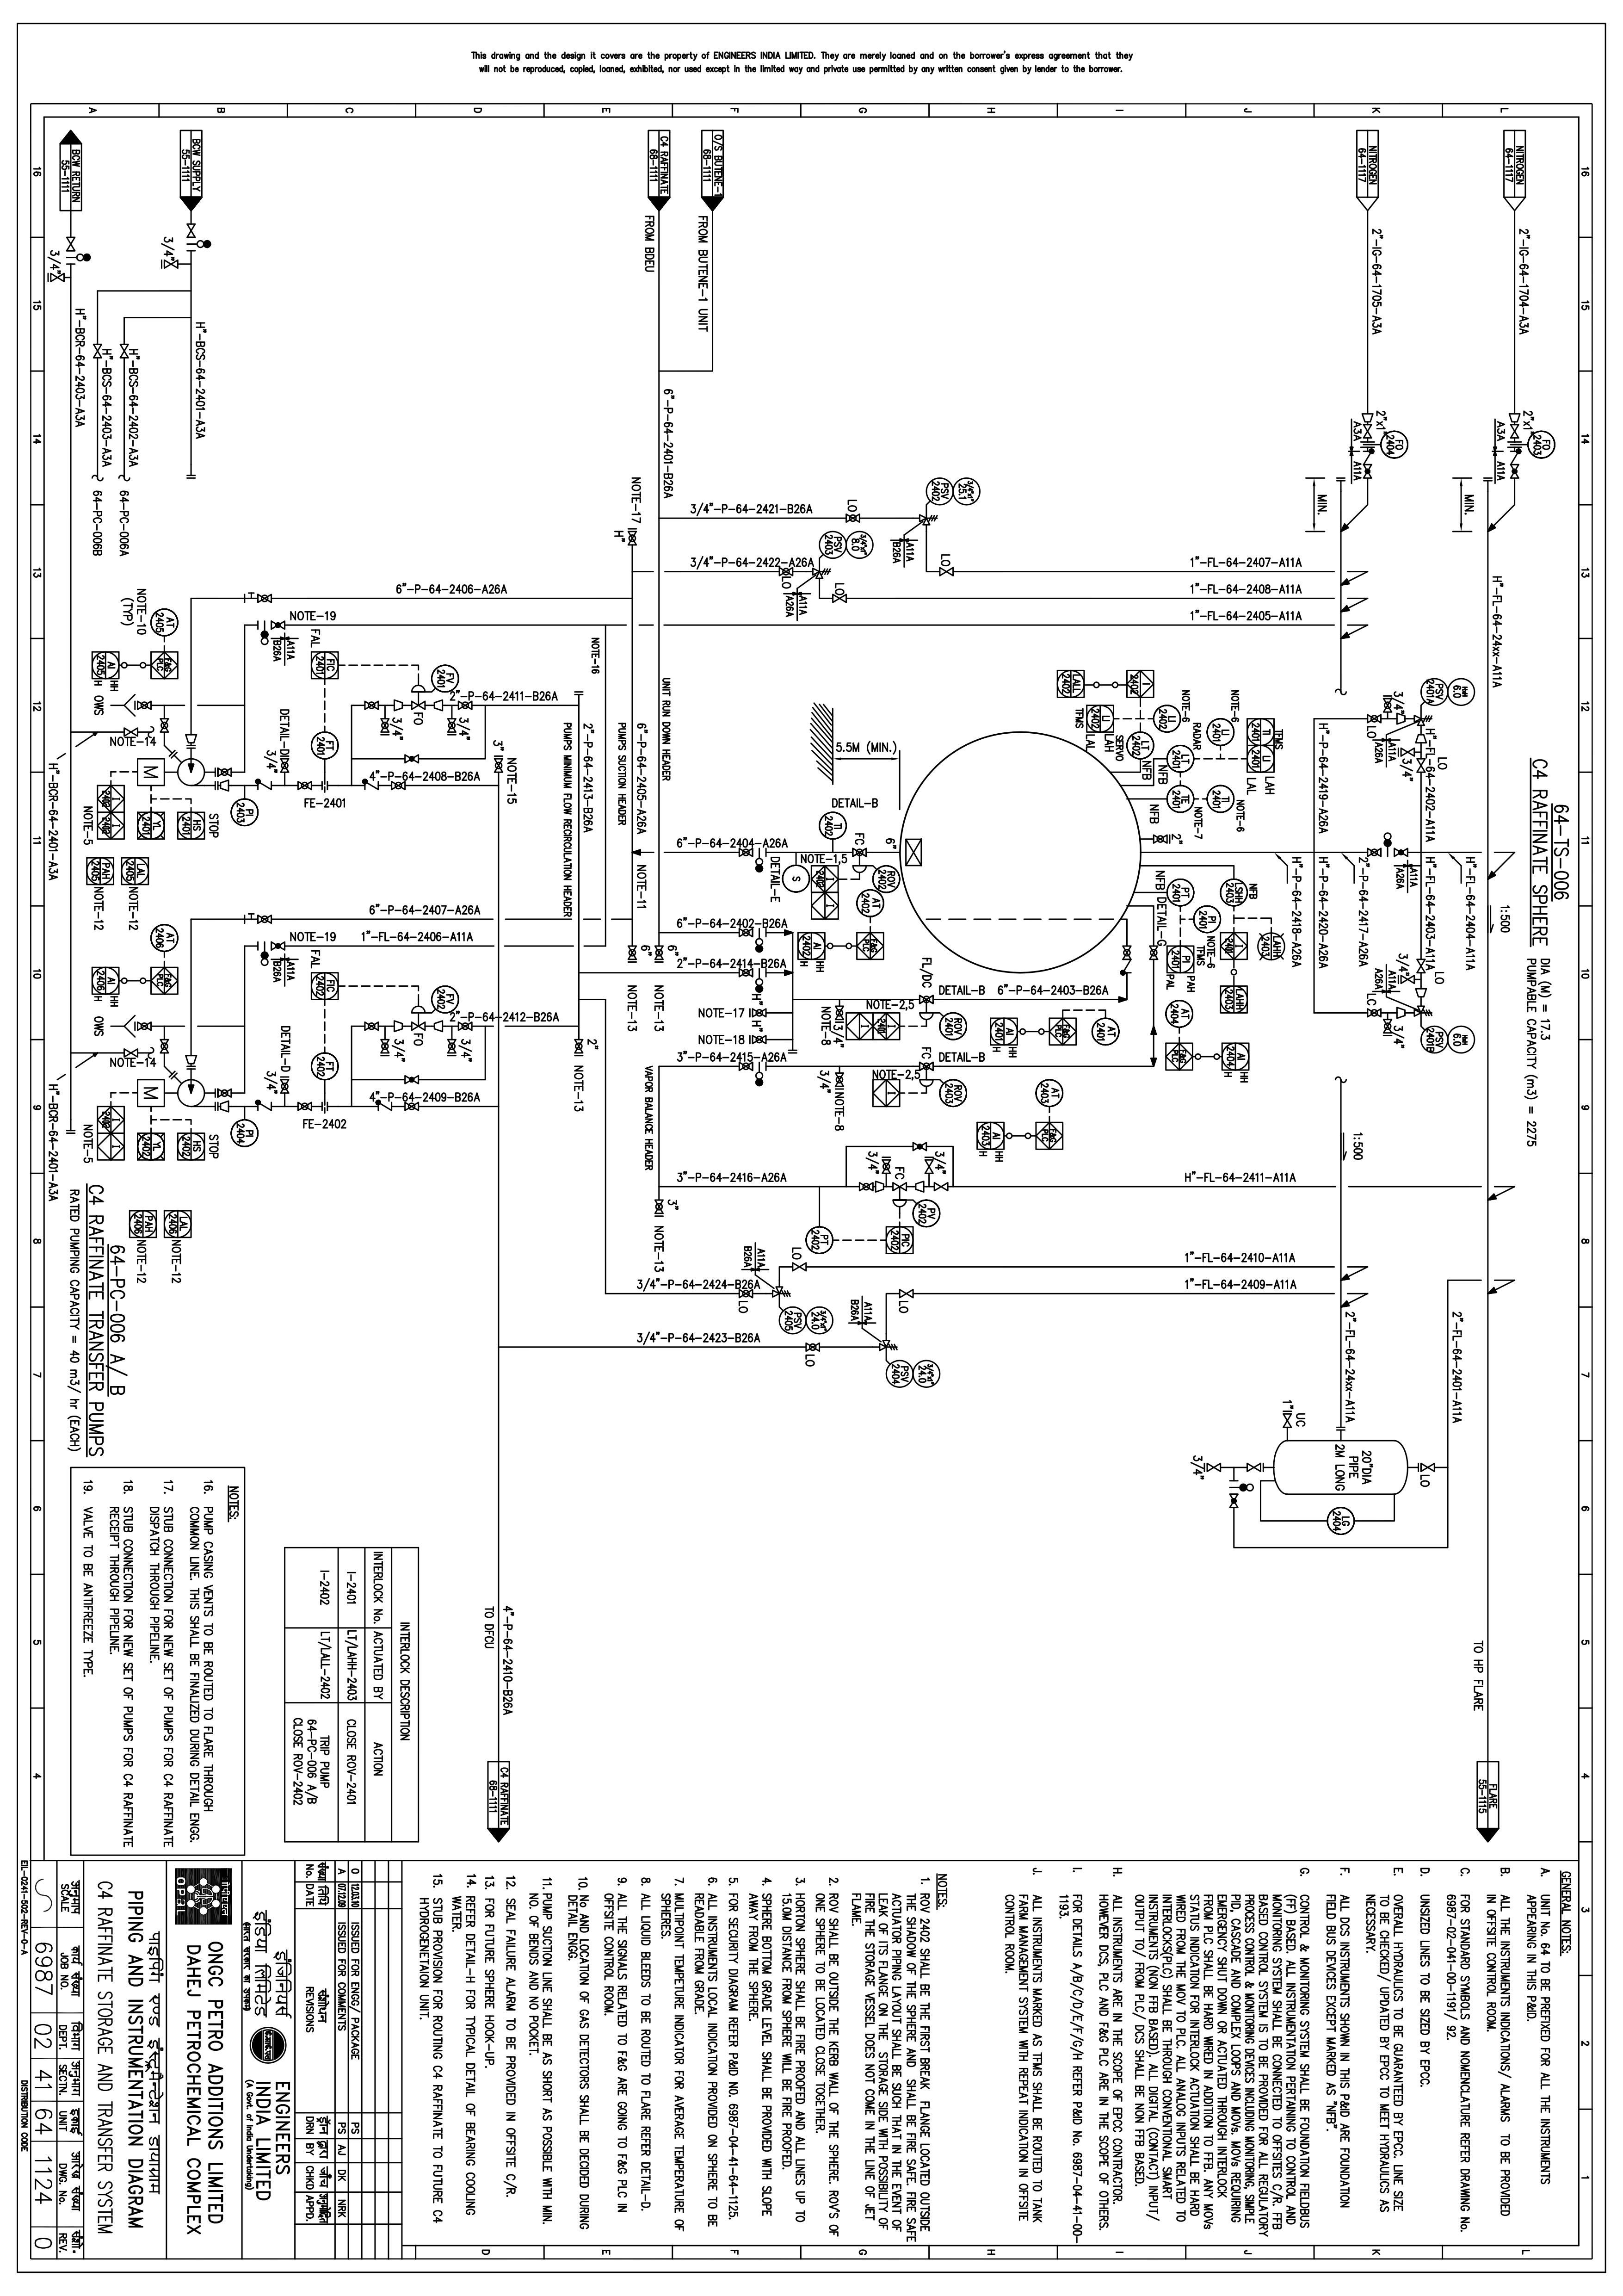ball valve: (1110, 942, 1138, 977), (1505, 408, 1525, 441), (764, 1286, 799, 1303), (869, 1335, 901, 1354), (1358, 409, 1377, 441), (176, 729, 202, 752), (272, 1075, 297, 1098), (857, 1175, 884, 1196), (797, 1337, 826, 1356), (783, 1258, 813, 1275), (179, 220, 204, 241), (177, 1052, 202, 1073), (745, 1003, 771, 1022), (887, 1175, 913, 1195), (1412, 1456, 1439, 1476), (155, 715, 176, 738), (360, 1015, 383, 1036), (896, 1281, 919, 1302), (1223, 1491, 1245, 1513), (42, 271, 72, 286), (834, 511, 868, 525), (926, 1177, 952, 1195), (1240, 1456, 1266, 1474), (1409, 1001, 1435, 1019), (90, 337, 105, 365), (213, 764, 241, 780), (288, 1098, 316, 1114), (747, 1033, 775, 1049), (61, 232, 81, 255), (919, 1154, 938, 1177), (255, 590, 279, 608), (132, 1017, 156, 1035), (211, 1084, 235, 1101), (1412, 954, 1430, 978), (249, 912, 276, 928), (1145, 940, 1163, 963), (731, 966, 759, 980), (133, 697, 158, 713), (625, 523, 641, 548), (400, 1073, 425, 1089), (444, 1036, 460, 1061), (357, 697, 383, 711), (399, 754, 425, 768), (270, 936, 292, 954), (490, 754, 508, 775), (732, 926, 759, 940), (1279, 1411, 1296, 1432), (1381, 1015, 1395, 1042), (1410, 713, 1437, 727), (263, 620, 293, 632), (158, 1035, 174, 1058), (404, 1015, 427, 1031), (829, 592, 852, 608), (775, 566, 797, 581), (118, 1043, 142, 1058), (385, 778, 409, 792), (1200, 1462, 1224, 1476), (1358, 1007, 1386, 1019), (913, 993, 938, 1007), (1361, 845, 1386, 859), (114, 343, 133, 360), (278, 757, 295, 776), (833, 1070, 850, 1089), (1361, 462, 1379, 481), (293, 776, 314, 792), (444, 717, 460, 738), (1507, 460, 1523, 481), (379, 715, 393, 738), (400, 1100, 423, 1114), (734, 847, 757, 861), (734, 1286, 757, 1300), (906, 1138, 929, 1152), (848, 845, 871, 859), (938, 566, 961, 580), (457, 1019, 476, 1035), (1412, 755, 1428, 775), (116, 726, 141, 738), (1393, 971, 1417, 984), (833, 1000, 845, 1024), (457, 699, 478, 713), (1381, 692, 1395, 713), (880, 1152, 892, 1175), (1363, 710, 1382, 724), (1391, 845, 1410, 859), (408, 699, 429, 711), (915, 1059, 936, 1072), (1151, 833, 1172, 845), (734, 1063, 757, 1073), (1396, 747, 1416, 757)
